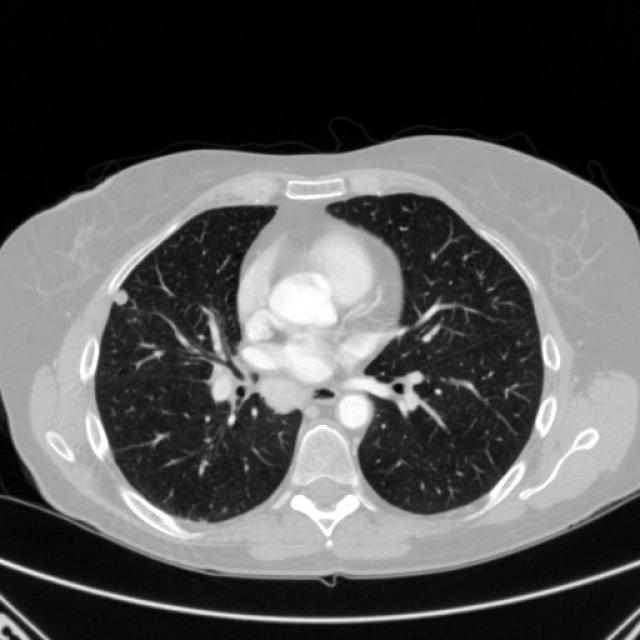nodule: (102, 278, 138, 314)
